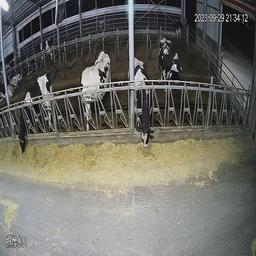cow: (9, 65, 58, 157), (76, 43, 118, 138), (127, 54, 160, 159), (158, 31, 189, 92), (35, 32, 57, 66), (174, 18, 184, 42)
